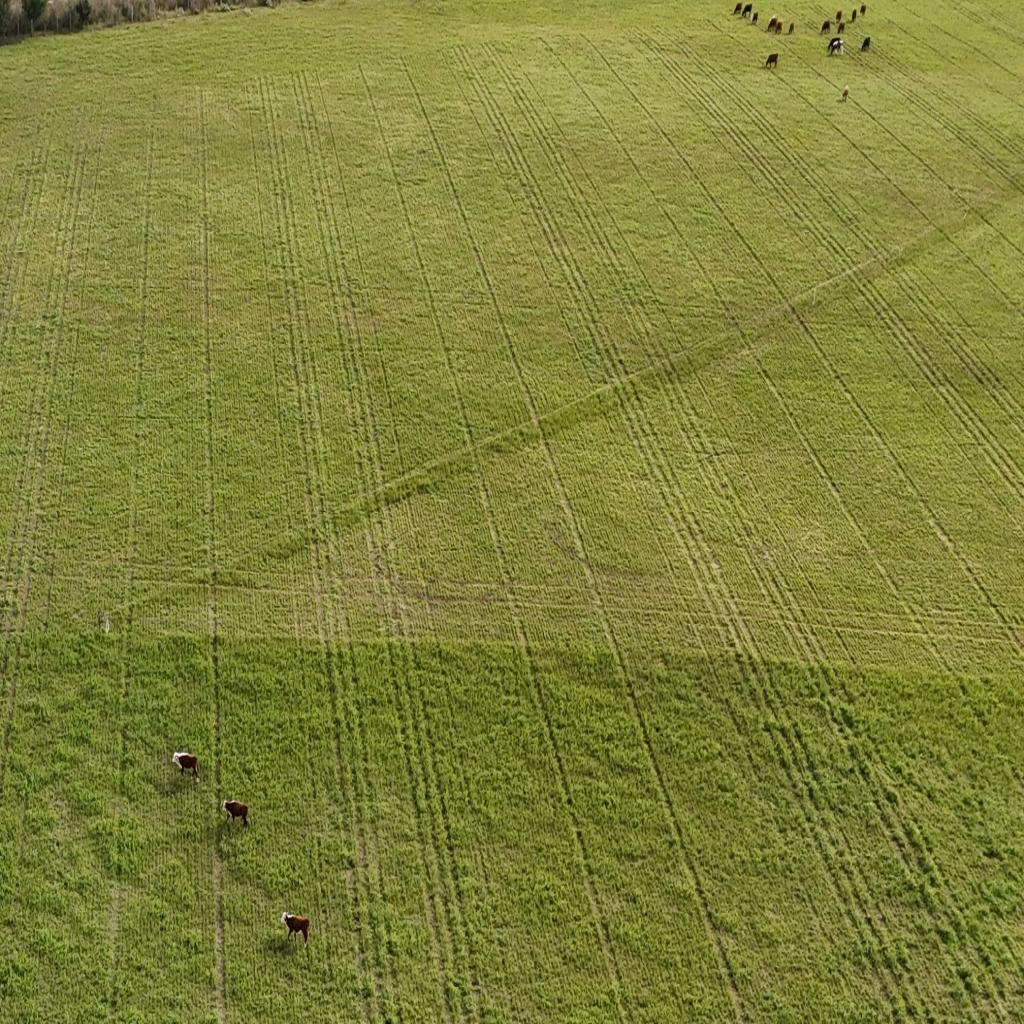cow: (276, 908, 310, 950), (222, 799, 249, 829), (174, 750, 200, 781), (764, 52, 778, 69), (840, 83, 852, 102), (831, 39, 845, 55), (820, 20, 831, 36), (742, 3, 752, 19), (861, 36, 871, 52), (828, 36, 842, 47), (768, 14, 779, 28), (750, 9, 759, 25), (733, 1, 743, 15), (774, 21, 782, 35), (837, 21, 845, 34), (836, 10, 843, 24), (851, 8, 857, 23), (788, 21, 794, 34), (860, 4, 866, 16)
